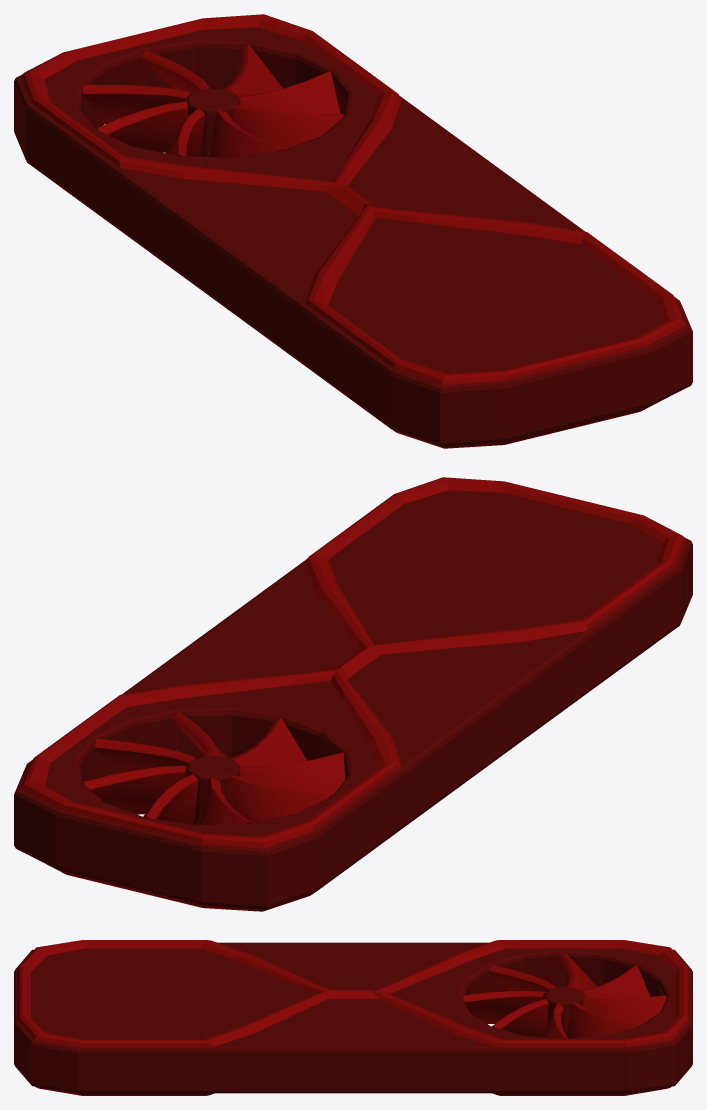
The model's file is Graphics_Card_Failed.fbx.
3 views of the same model, one above another, from view 1: azimuth 30°, elevation 25°; view 2: azimuth 150°, elevation 25°; view 3: azimuth 270°, elevation 25° (orthographic). The views are drawn at different scales.
Visible parts, largest first — view 1: Graphics Card.001, Graphics Card Fan.001; view 2: Graphics Card.001, Graphics Card Fan.001; view 3: Graphics Card.001, Graphics Card Fan.001.
Part boxes in pixels (box(x1,y1,x2,y2)): Graphics Card.001: box(14, 14, 692, 448); Graphics Card Fan.001: box(83, 44, 344, 157); Graphics Card.001: box(14, 477, 692, 911); Graphics Card Fan.001: box(83, 712, 344, 824); Graphics Card.001: box(14, 940, 692, 1095); Graphics Card Fan.001: box(463, 952, 666, 1039).
Bounding box in the file's own units: 30 × 7.2 × 80.
